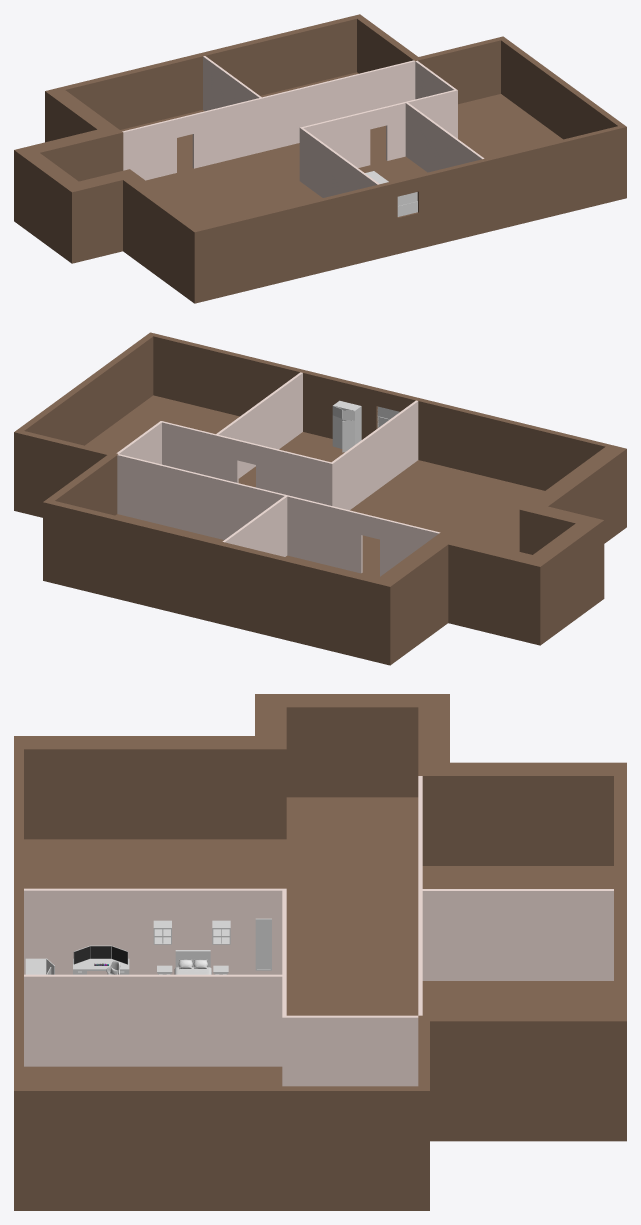
Rendered from Habitacion.fbx.
The picture shows the model from 3 angles, top to bottom: view 1: azimuth 30°, elevation 25°; view 2: azimuth 150°, elevation 25°; view 3: azimuth 270°, elevation 25°; orthographic projection. The views are drawn at different scales.
Parts seen in each view (by area): view 1: Paredes, Pared_05, Pared_03, Pared_01, Pared_02, Pared_06, Pared_04; view 2: Paredes, Pared_05, Pared_03, Pared_01, Pared_02, Pared_06, Pared_04; view 3: Paredes, Pared_02, Pared_01, Pared_06, Pared_04, Pared_05, Espejo.
Boxes of the visible parts, bbox=[...] form: Paredes: bbox=[14, 14, 626, 303]; Pared_05: bbox=[122, 60, 415, 180]; Pared_03: bbox=[302, 90, 455, 167]; Pared_01: bbox=[299, 127, 379, 197]; Pared_02: bbox=[405, 102, 484, 172]; Pared_06: bbox=[203, 56, 261, 111]; Pared_04: bbox=[415, 60, 457, 138]; Paredes: bbox=[14, 332, 626, 665]; Pared_05: bbox=[117, 454, 440, 576]; Pared_03: bbox=[162, 421, 330, 505]; Pared_01: bbox=[330, 400, 418, 510]; Pared_02: bbox=[216, 372, 302, 478]; Pared_06: bbox=[222, 496, 287, 556]; Pared_04: bbox=[116, 421, 162, 464]; Paredes: bbox=[14, 694, 626, 1210]; Pared_02: bbox=[24, 974, 282, 1066]; Pared_01: bbox=[24, 888, 286, 974]; Pared_06: bbox=[422, 889, 613, 980]; Pared_04: bbox=[282, 1015, 418, 1086]; Pared_05: bbox=[418, 776, 422, 1015]; Espejo: bbox=[255, 918, 271, 970].
Bounding box in the file's own units: 2827 × 399 × 1846.
